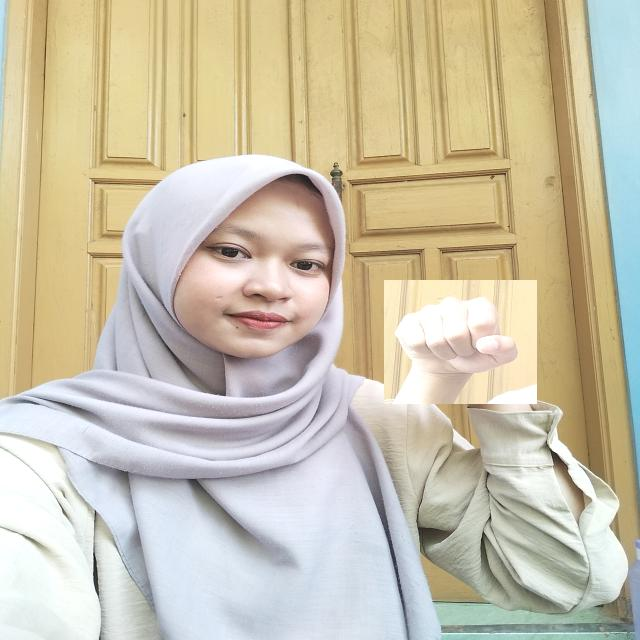baik: (384, 280, 537, 404)
